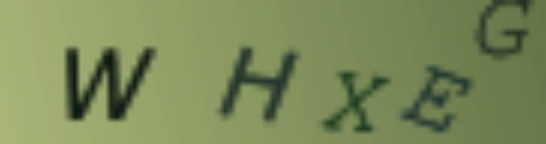E: (396, 61, 474, 136)
G: (476, 1, 540, 61)
H: (211, 46, 305, 125)
W: (58, 41, 163, 126)
X: (316, 67, 391, 140)
